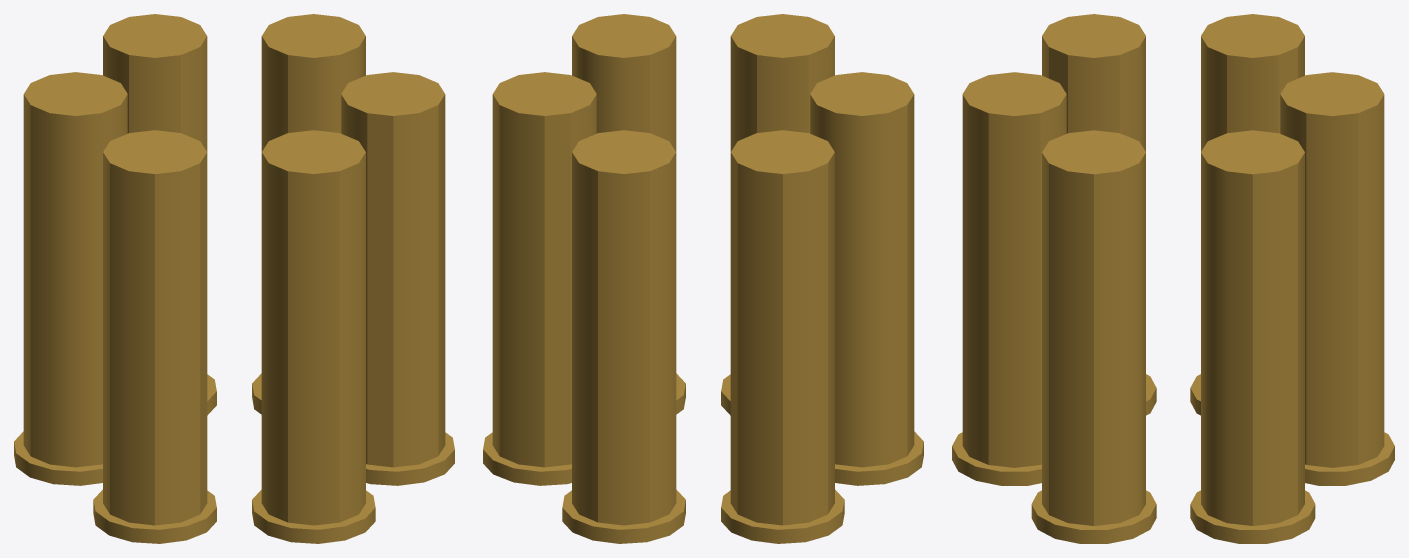
Rendered from mod_marshal_cylinder.glb.
3 views of the same model, side by side, from view 1: azimuth 30°, elevation 25°; view 2: azimuth 150°, elevation 25°; view 3: azimuth 270°, elevation 25° (orthographic).
Parts seen in each view (by area): view 1: Rounds; view 2: Rounds; view 3: Rounds.
Boxes of the visible parts, x1,y1,x2,y2 form: Rounds: [14, 14, 454, 543]; Rounds: [483, 14, 923, 543]; Rounds: [952, 14, 1394, 543].
Size of the model in its own units: 0.0305 by 0.0315 by 0.034.
